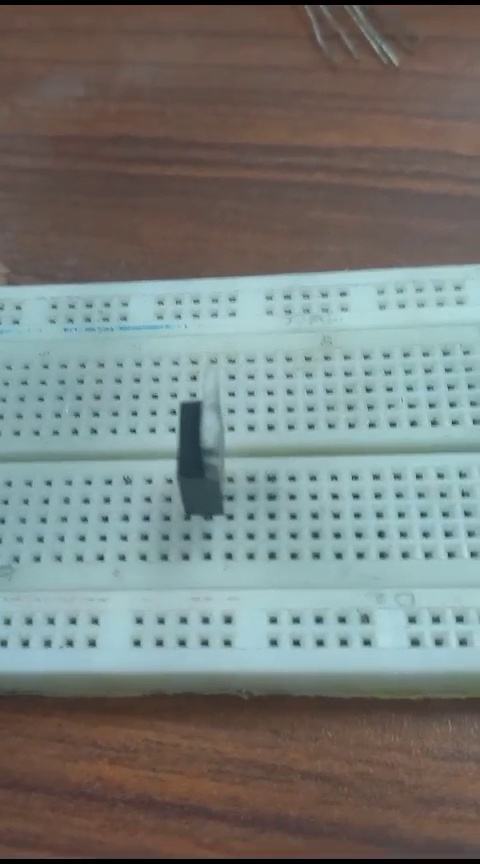voltage regulator: (166, 371, 237, 548)
